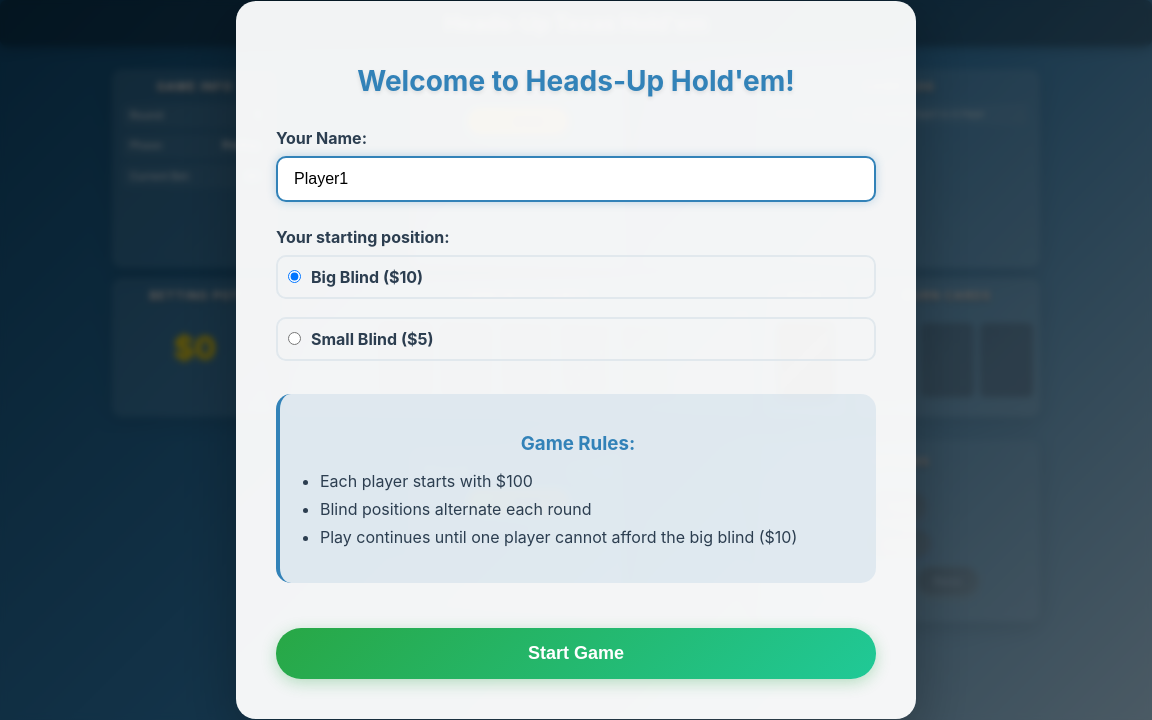
Test: Status Container (LC-090–LC-097) › status container exists in the DOM after game start
Type "Test" into the field with placeholder "Enter your name" at (576, 179), box left=276, top=156, right=876, bottom=202
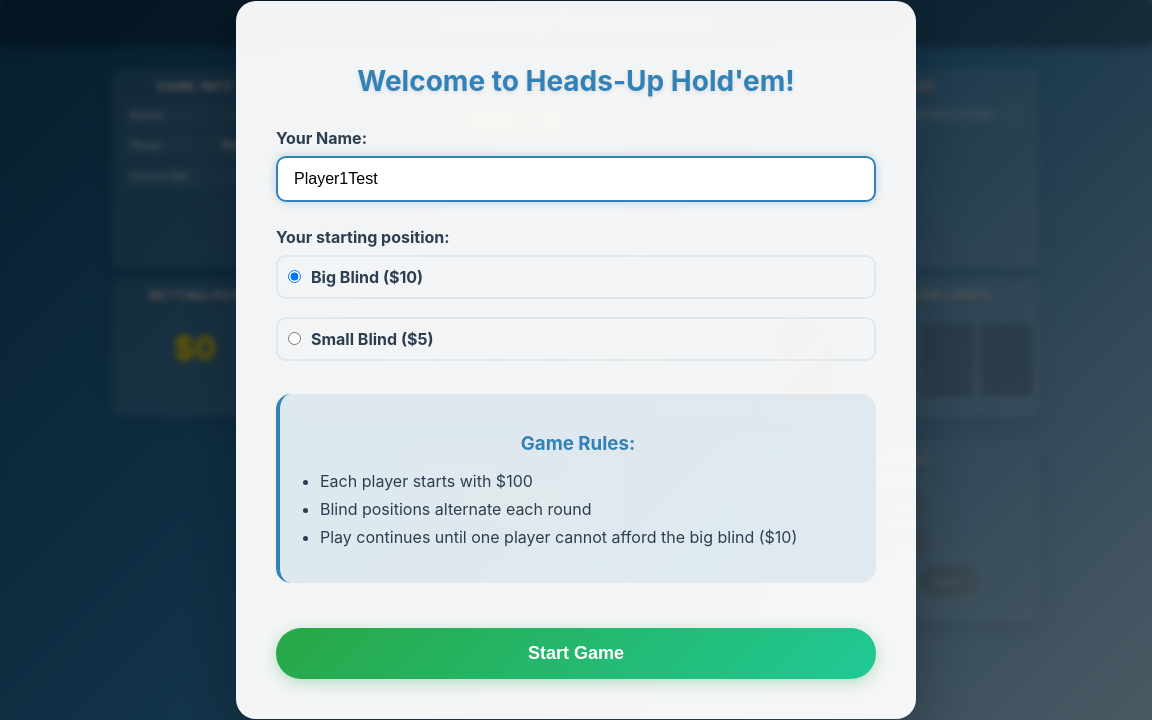
Click the button "Start Game" at (576, 654), box left=276, top=628, right=876, bottom=680
Wait 3000 ms
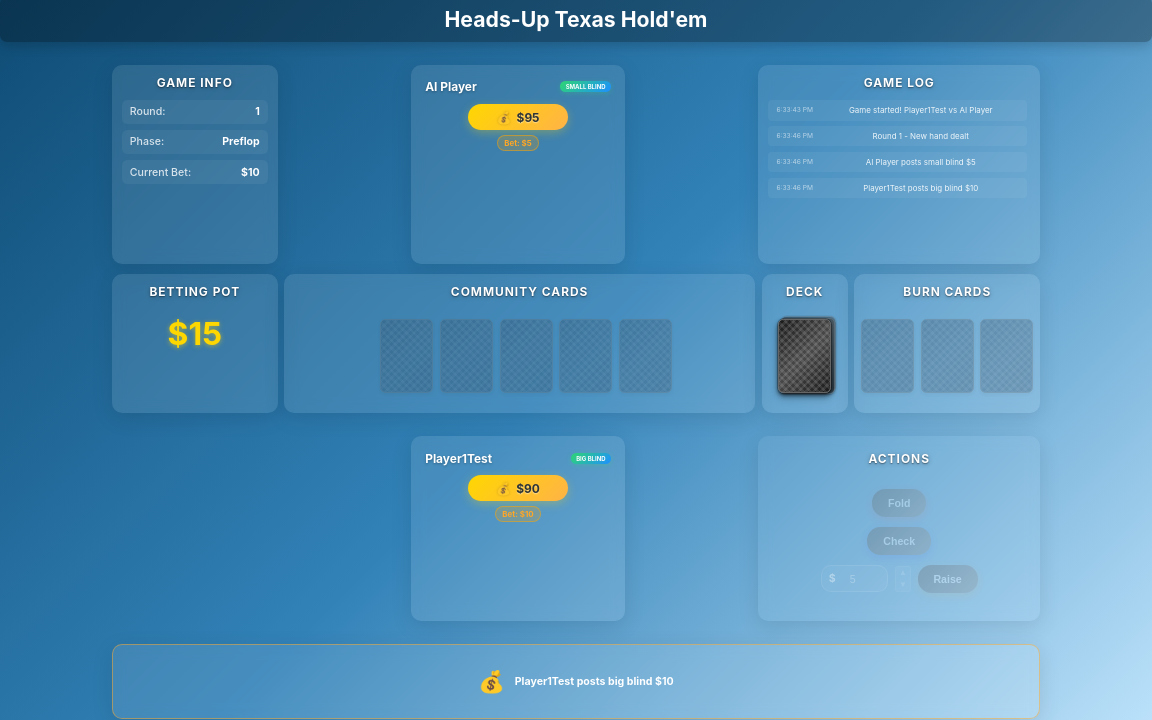
Check: the element with class "status-container" is shown, box left=112, top=644, right=1040, bottom=719
